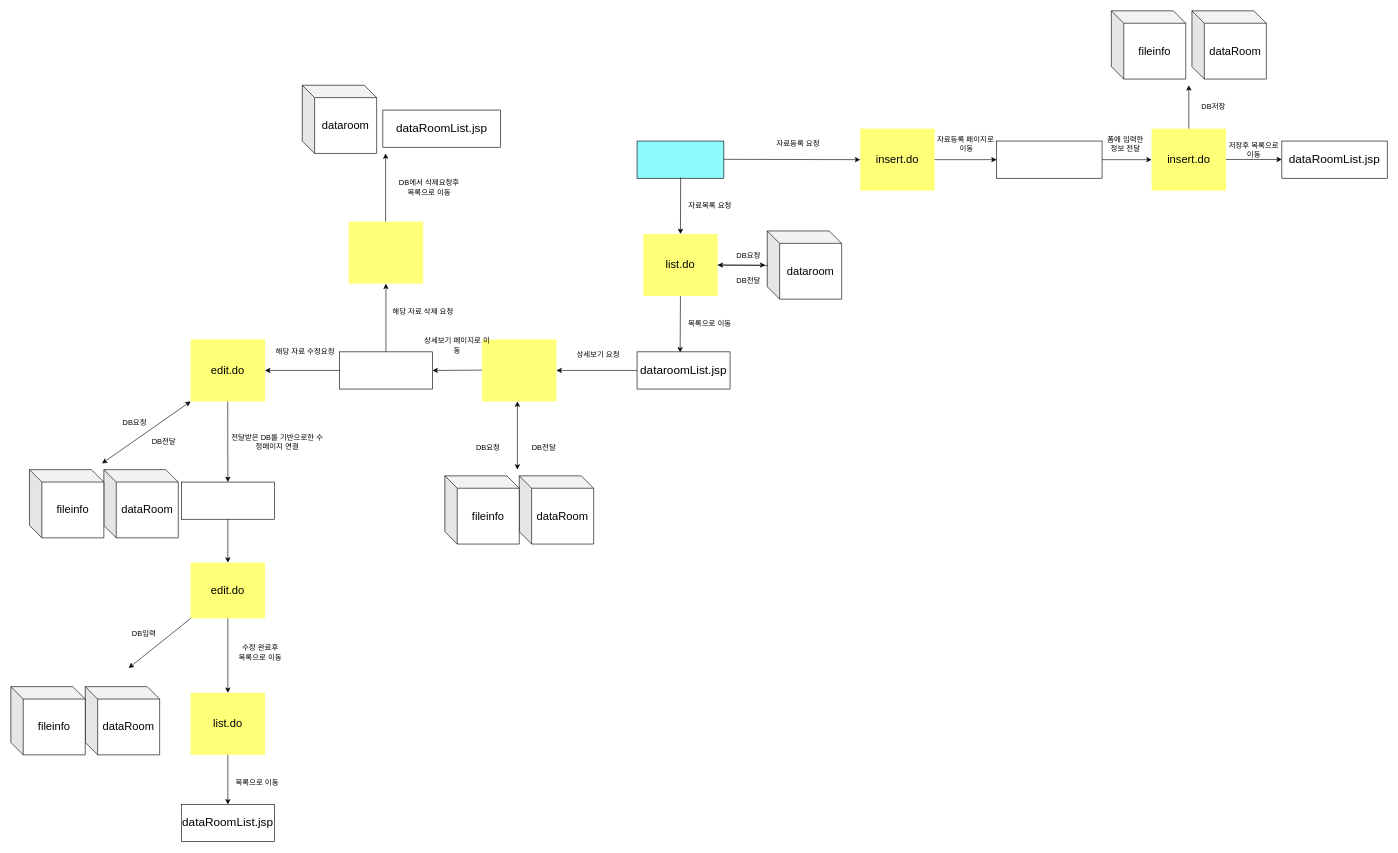
Image size: 1398x853. Some labels were removed from this diagram. The centre of each missing label's shape, as x and y in pixels:
"DataRoom Controller.java" goes at pixel 680 159.
"dataRoomDetail .jsp" goes at pixel 385 370.
"dataRoomEdit .jsp" goes at pixel 227 500.
"dataRoomInsert.jsp" goes at pixel 1049 159.
"delete.do" goes at pixel 385 252.
"detail.do" goes at pixel 519 370.
